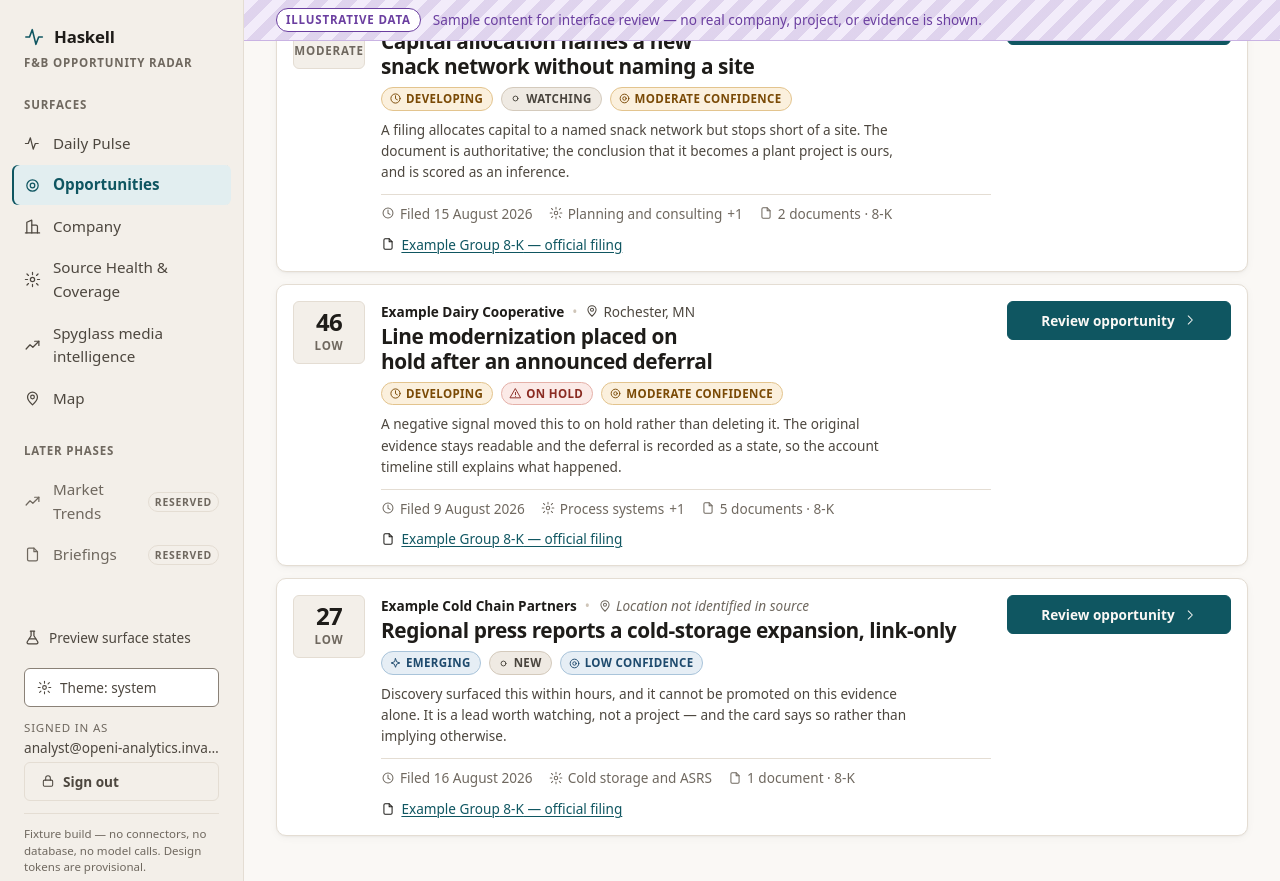
Test: detail drawer › shows the timing caveat and provisional classification in the drawer
(page scrolled)
Click the button named "cold-storage expansion" at {"x": 1119, "y": 615}, box x1=1007 y1=595 x2=1231 y2=634
(page scrolled)
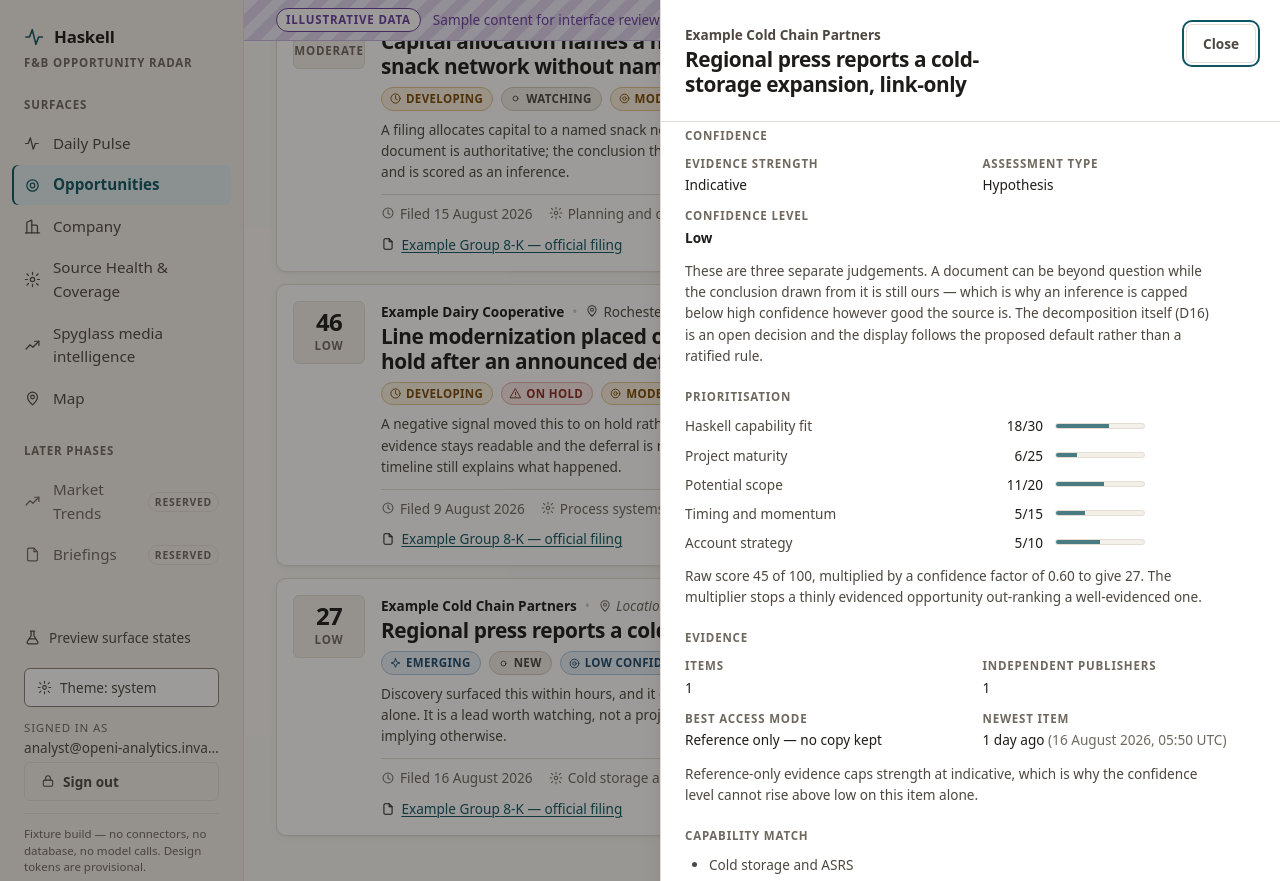
Expected: the text "Reference-only evidence caps strength" is shown, x1=685 y1=764 x2=1197 y2=804
Press Escape
(page scrolled)
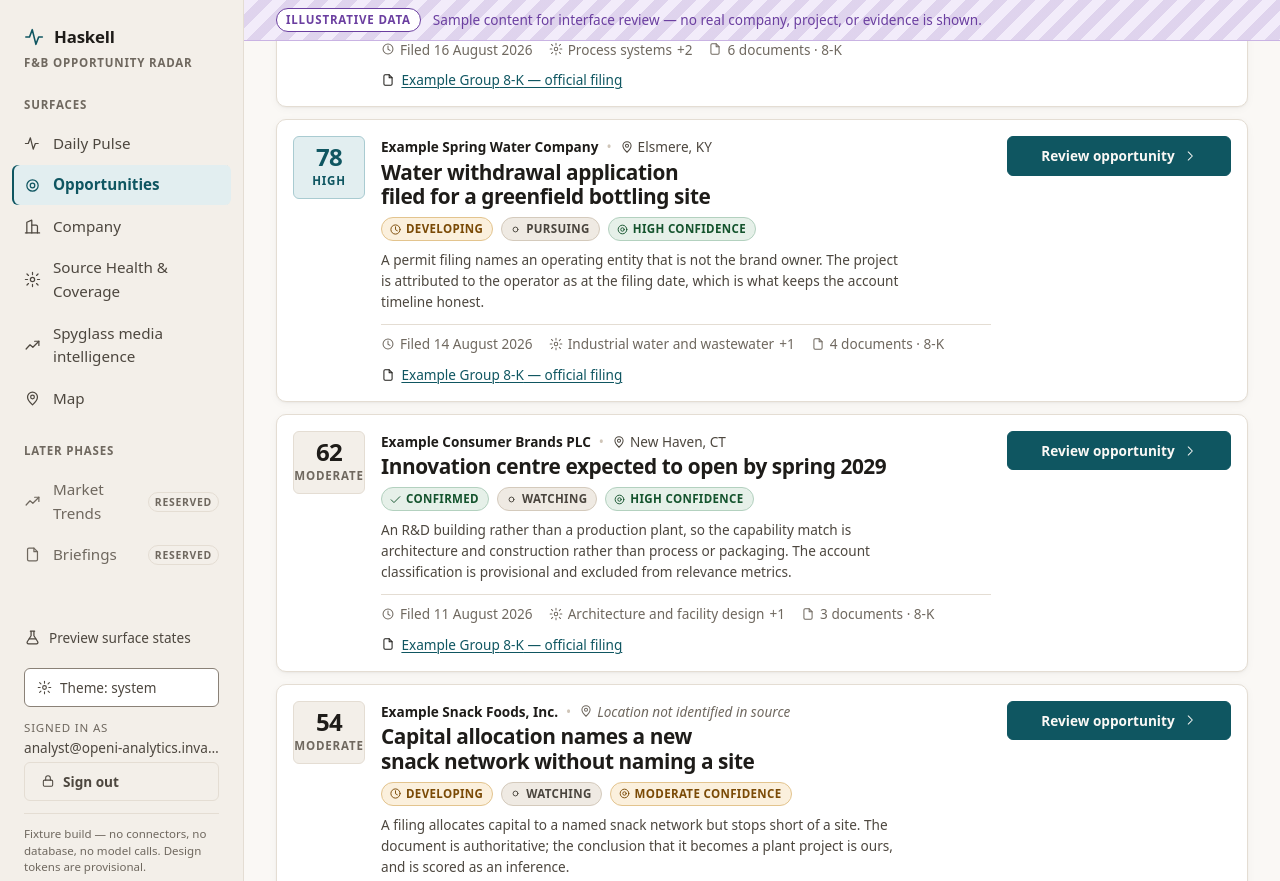
Click the button with aria-label "Innovation centre" at {"x": 1119, "y": 451}, box x1=1007 y1=431 x2=1231 y2=470
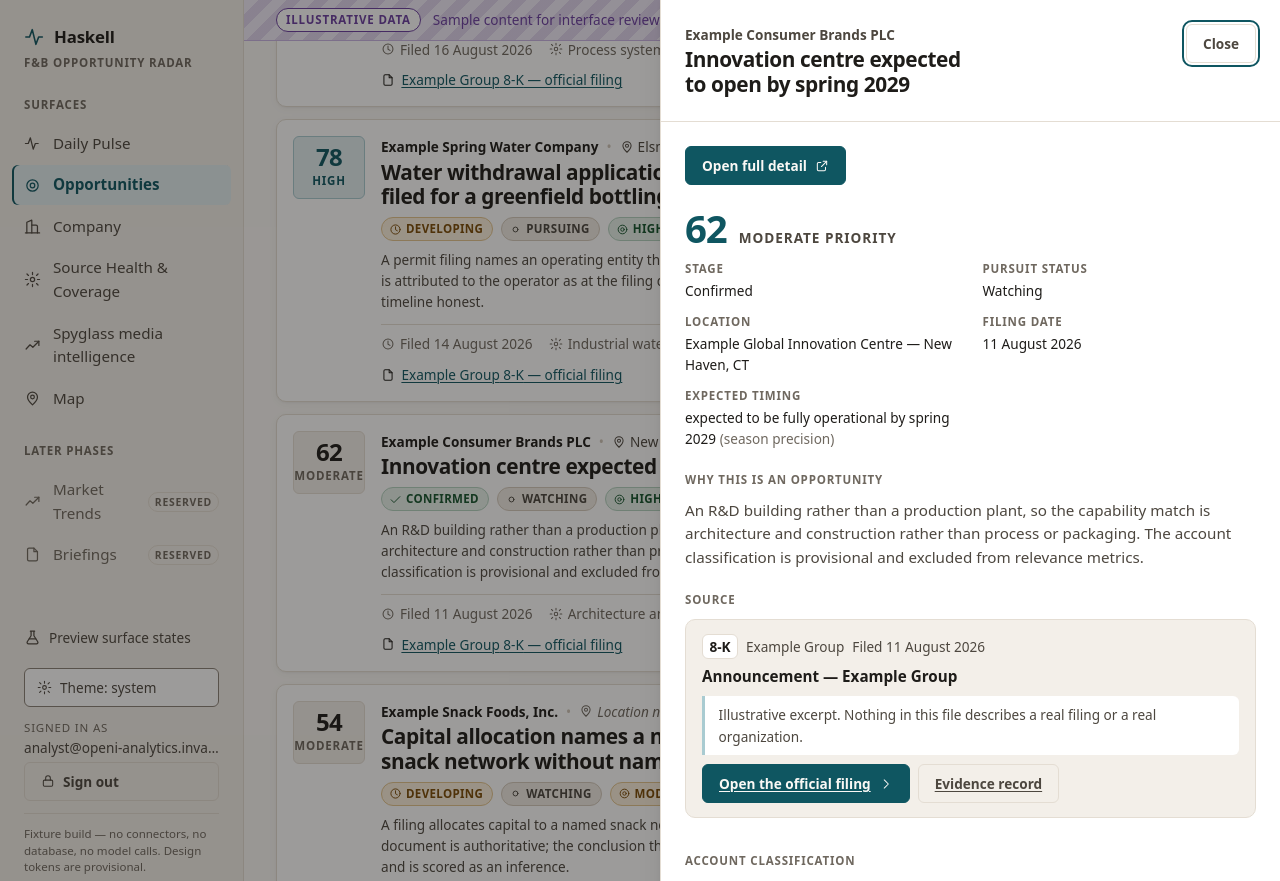
Expected: the heading "Account classification" is shown, x1=685 y1=853 x2=856 y2=868
